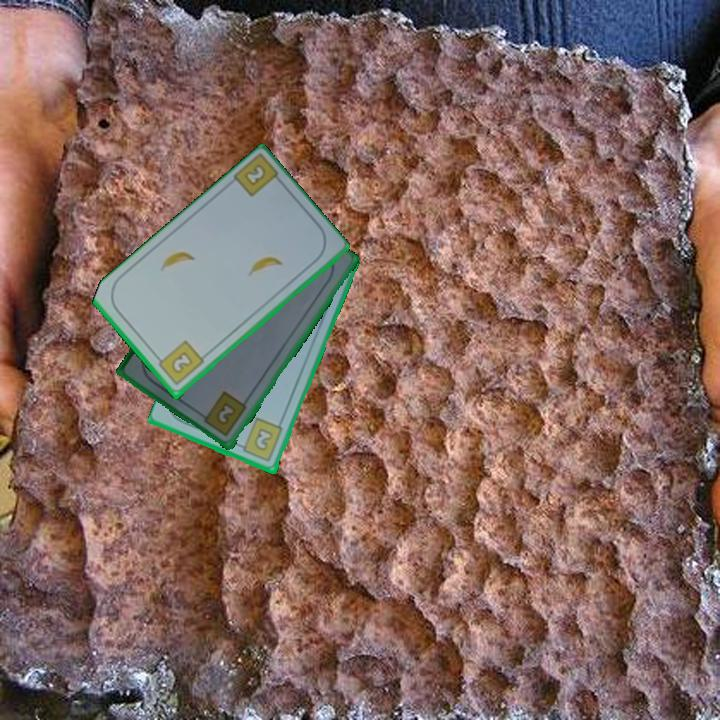2b: (152, 337, 207, 388), (229, 152, 287, 200), (197, 388, 250, 440), (234, 415, 286, 465)
